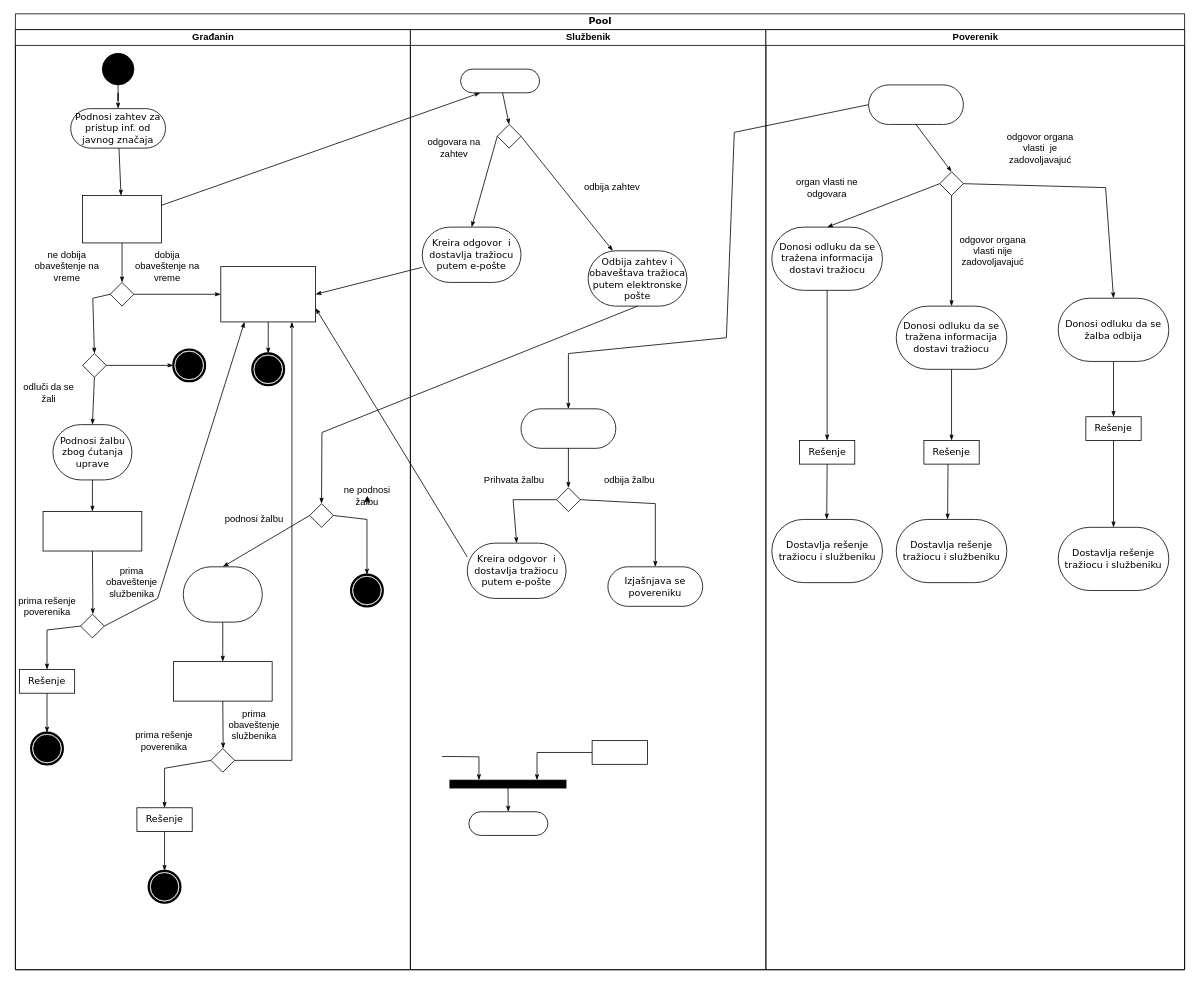
Some shapes in this 1198 by 984 pixel diagram are drawn without their labels. The centre of each missing label's shape, as x and y in pixels:
Action: pixel 508 823
Obaveštava organ vlasti o žalbi: pixel 915 104
Obaveštenje o stavljanju na uvid dokumenta: pixel 268 294
Object: pixel 619 752
Podnosi žalbu protiv odluke organa vlasti: pixel 222 594
Razmatra zahtev: pixel 500 80
Razmatra žalbu: pixel 568 428
Zahtev za pristup inf. od javnog značaja: pixel 122 219
Žalba protiv odluke organa vlasti: pixel 222 681
Žalba zbog "ćutanja uprave": pixel 92 531
